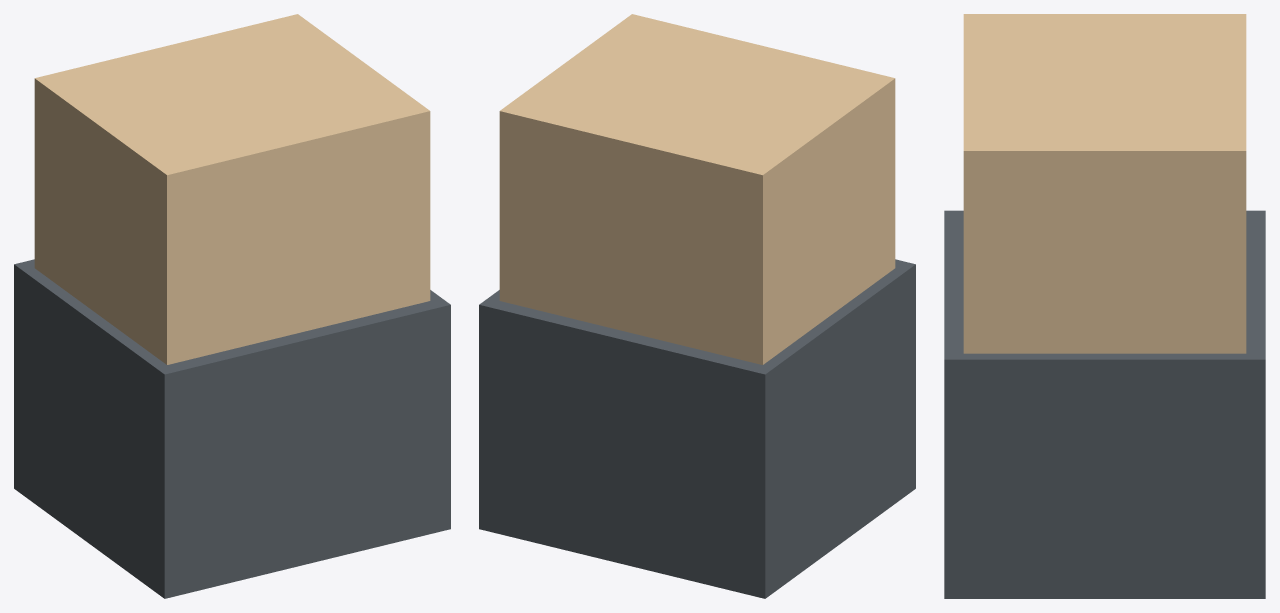
Rendered from print___utility_office_asset_library_92.glb.
The picture shows the model from 3 angles, left to right: view 1: azimuth 30°, elevation 25°; view 2: azimuth 150°, elevation 25°; view 3: azimuth 270°, elevation 25°; orthographic projection. The views are drawn at different scales.
Visible parts, largest first — view 1: Cube; view 2: Cube; view 3: Cube.
Boxes of the visible parts, x1,y1,x2,y2 form: Cube: [14, 14, 450, 598]; Cube: [479, 14, 915, 598]; Cube: [944, 14, 1265, 598].
Bounding box in the file's own units: 0.7083 × 0.98 × 0.6458.
